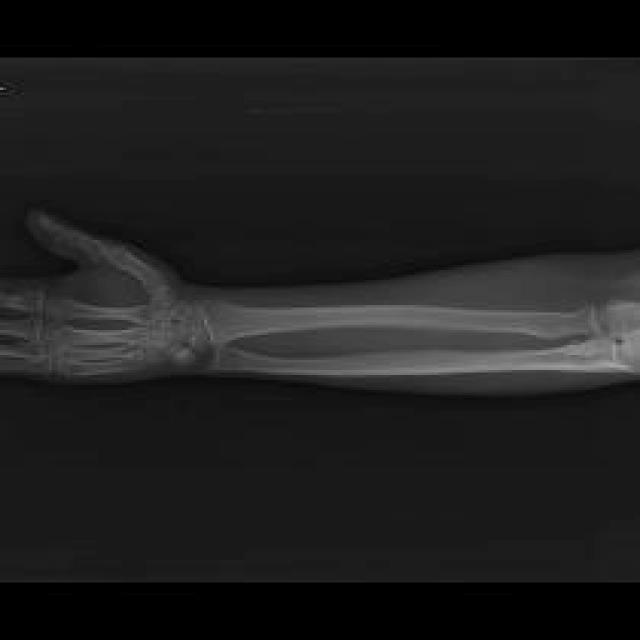normal: (4, 214, 639, 379)
